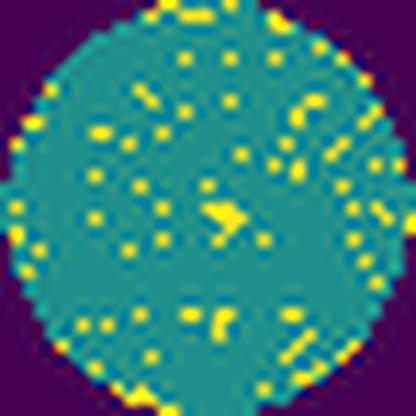Center: (196, 193, 249, 253)
